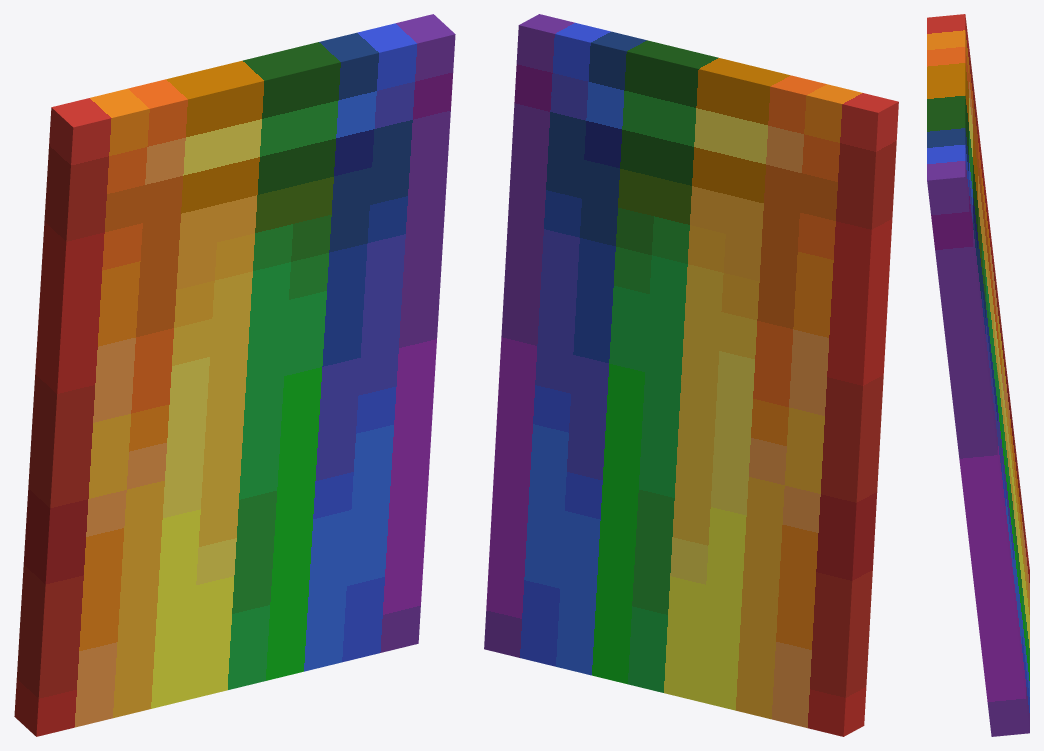
File: sl_pride_cape.glb
3 renders of one model, left to right at view 1: azimuth 30°, elevation 25°; view 2: azimuth 150°, elevation 25°; view 3: azimuth 270°, elevation 25°, orthographic. The views are drawn at different scales.
Parts seen in each view (by area): view 1: bb_pride_cape; view 2: bb_pride_cape; view 3: bb_pride_cape.
Boxes of the visible parts, x1=… form: bb_pride_cape: x1=14, y1=14, x2=455, y2=736; bb_pride_cape: x1=484, y1=14, x2=898, y2=736; bb_pride_cape: x1=927, y1=14, x2=1029, y2=736.
Bounding box in the file's own units: 0.625 × 1 × 0.1667.
1 material, 1 textured.
